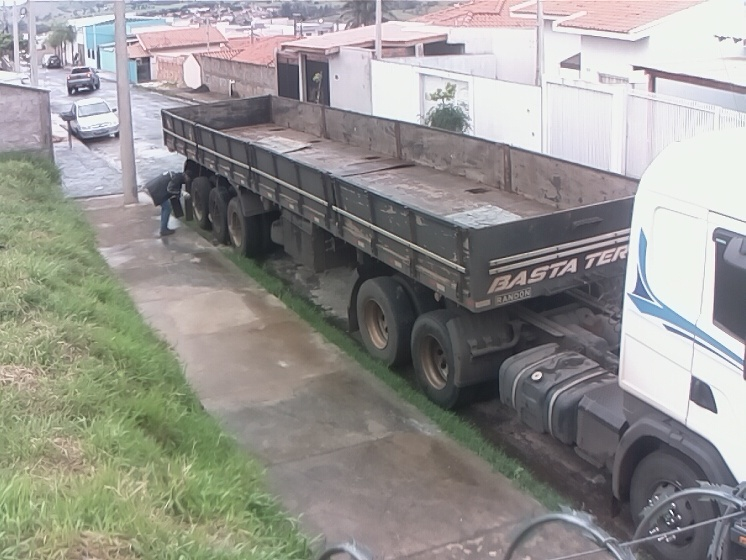person: (144, 167, 197, 239)
